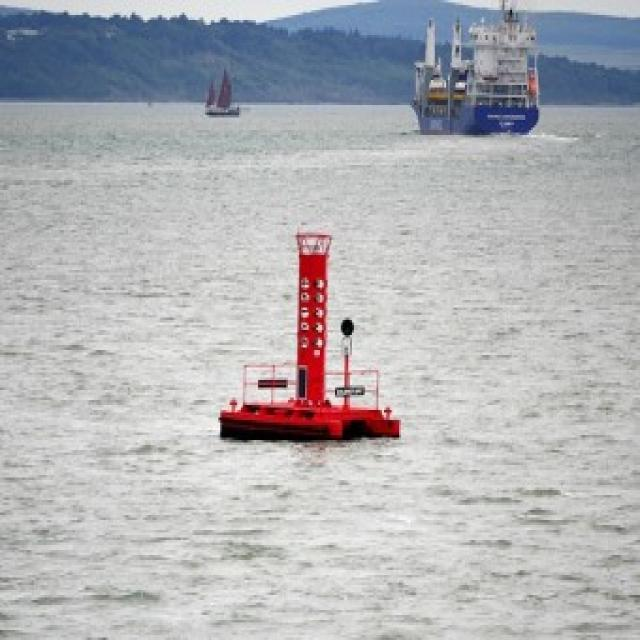marque: (194, 199, 408, 451)
